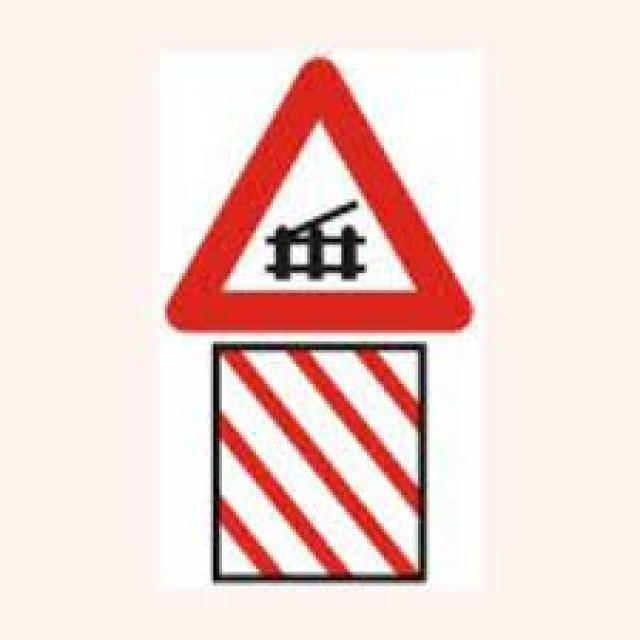guarded level crossing: (163, 52, 476, 332)
